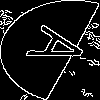A: (25, 25, 100, 74)
